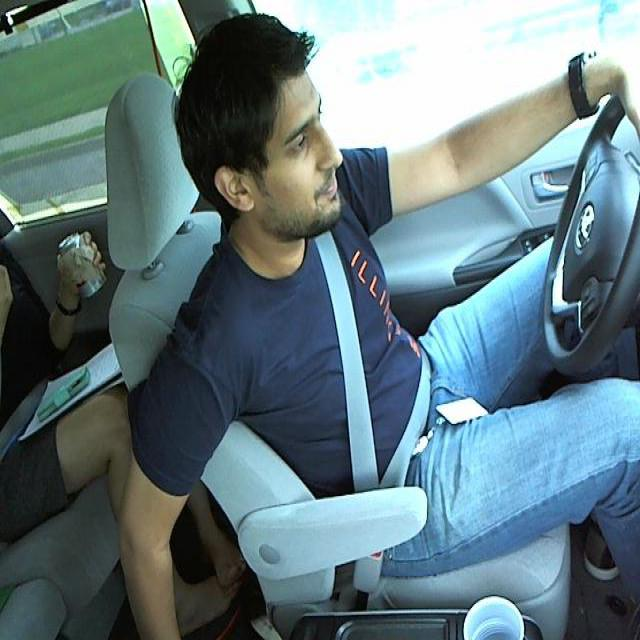seatbelt: (300, 238, 443, 502)
